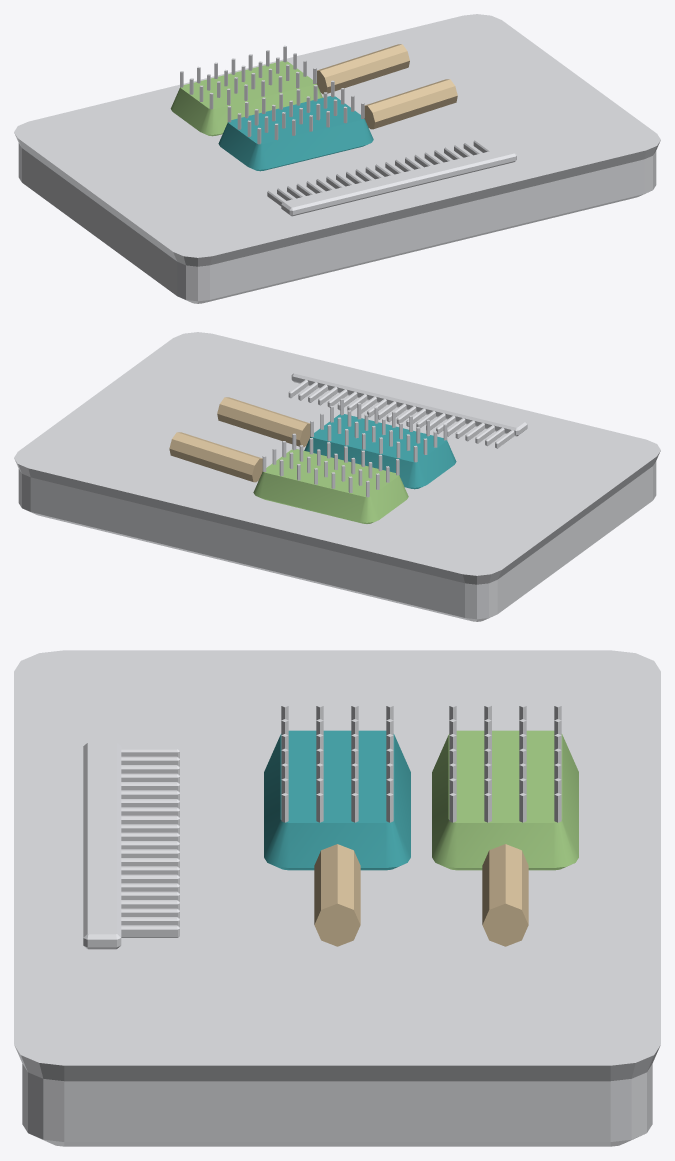
The model's file is pet-shop-and-grooming-salon-brush-and-comb-tray-c94bf36c__34597.glb.
The picture shows the model from 3 angles, top to bottom: view 1: azimuth 30°, elevation 25°; view 2: azimuth 150°, elevation 25°; view 3: azimuth 270°, elevation 25°; orthographic projection. The views are drawn at different scales.
Parts seen in each view (by area): view 1: brush-and-comb-tray; view 2: brush-and-comb-tray; view 3: brush-and-comb-tray.
Part boxes in pixels (box(x1,y1,x2,y2)): brush-and-comb-tray: box(14, 14, 660, 303); brush-and-comb-tray: box(14, 332, 660, 621); brush-and-comb-tray: box(14, 650, 660, 1146).
Bounding box in the file's own units: 0.468 × 0.088 × 0.308.
